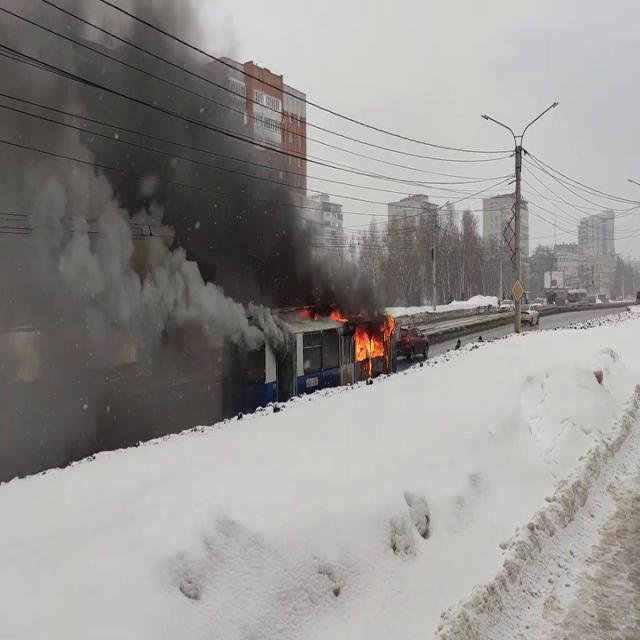Fire: (352, 322, 389, 368)
Smoke: (0, 1, 386, 327)
